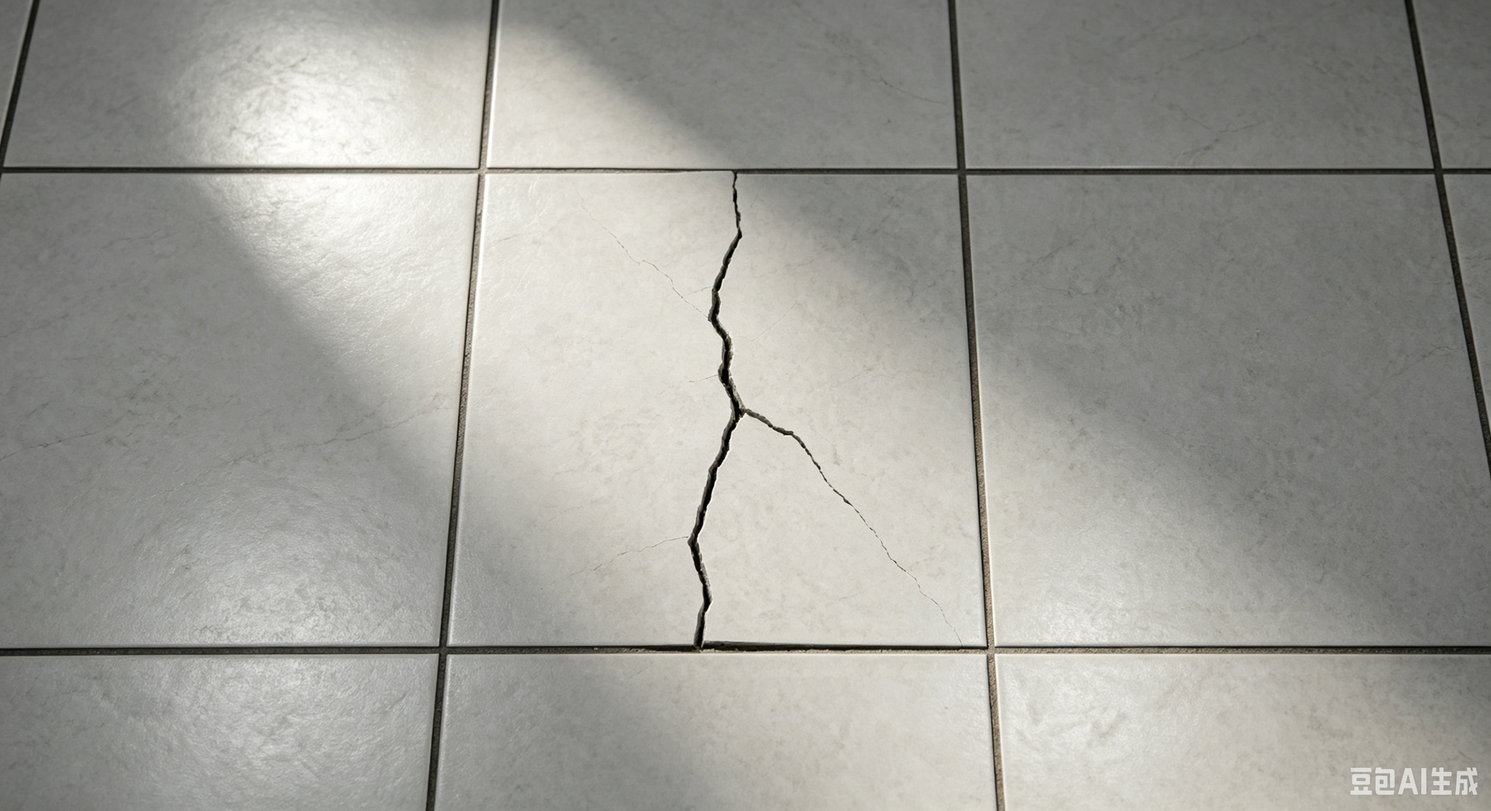floor_defect: (675, 157, 770, 654), (872, 542, 963, 644), (816, 475, 879, 536), (769, 408, 819, 470)
